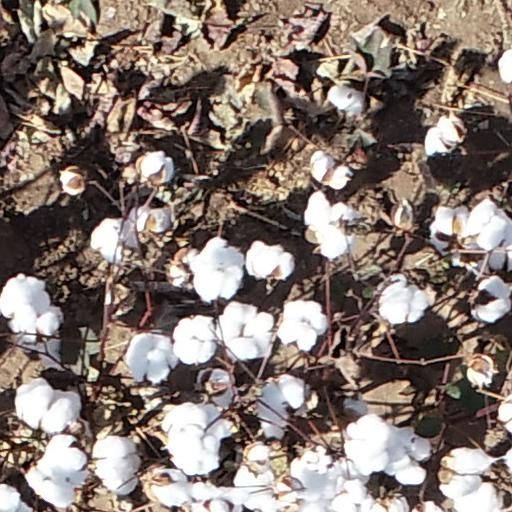Boll: (440, 448, 508, 509), (14, 377, 81, 431), (215, 301, 275, 360), (1, 275, 59, 335), (257, 373, 313, 435), (189, 240, 245, 299), (92, 433, 139, 496), (291, 449, 345, 500), (304, 195, 349, 254), (127, 329, 178, 381), (345, 414, 389, 473), (461, 199, 512, 249), (278, 299, 326, 348), (381, 273, 428, 323), (169, 431, 220, 476), (386, 426, 427, 481), (167, 405, 237, 437), (244, 239, 295, 282), (174, 314, 217, 364), (42, 437, 88, 483), (430, 204, 471, 255), (23, 466, 76, 505), (237, 468, 282, 512), (92, 221, 137, 261), (190, 478, 242, 512), (471, 277, 512, 318), (195, 368, 237, 408), (149, 469, 194, 506), (314, 152, 350, 188), (137, 150, 175, 184), (332, 479, 371, 512), (136, 205, 172, 240), (333, 85, 367, 113), (1, 483, 32, 512), (436, 113, 464, 143), (426, 127, 455, 155), (469, 355, 496, 385), (277, 476, 307, 503), (482, 245, 512, 268), (372, 493, 407, 512), (59, 166, 83, 193), (244, 445, 271, 469), (498, 48, 512, 80)
